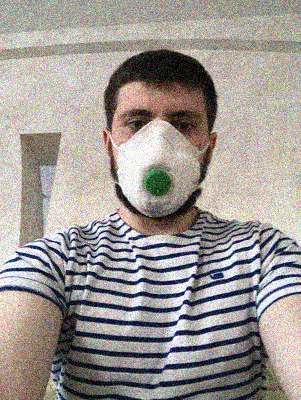with_mask: (112, 93, 206, 219)
